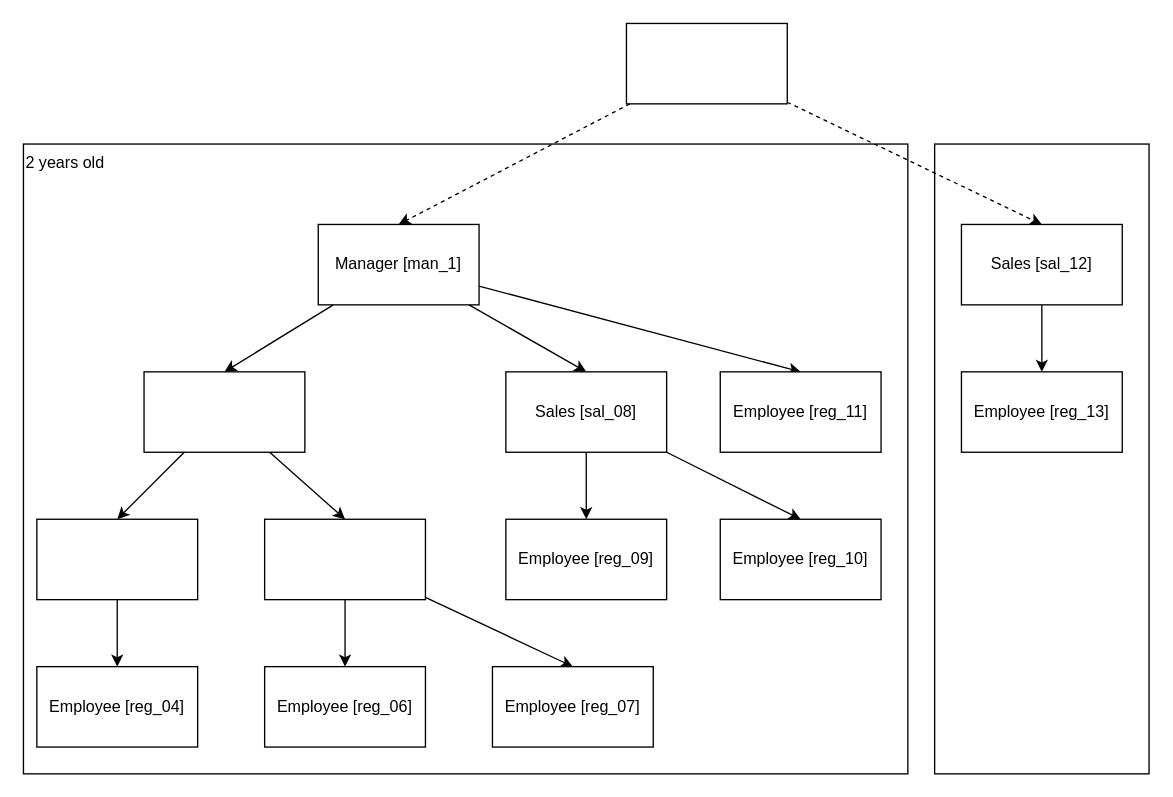
The diagram is 1173 pixels wide and 797 high, and some of its shapes have lost their labels. The shapes that lost their labels are listed below. From the top down, each one's box as (x1, y1, x2, y2) in pixels, then its label:
(625, 22, 787, 104): Company
(143, 371, 305, 452): Sales [sal_02]
(933, 143, 1149, 774): 1 year old
(36, 518, 198, 600): Manager [man_03]
(263, 518, 425, 600): Manager [man_05]
